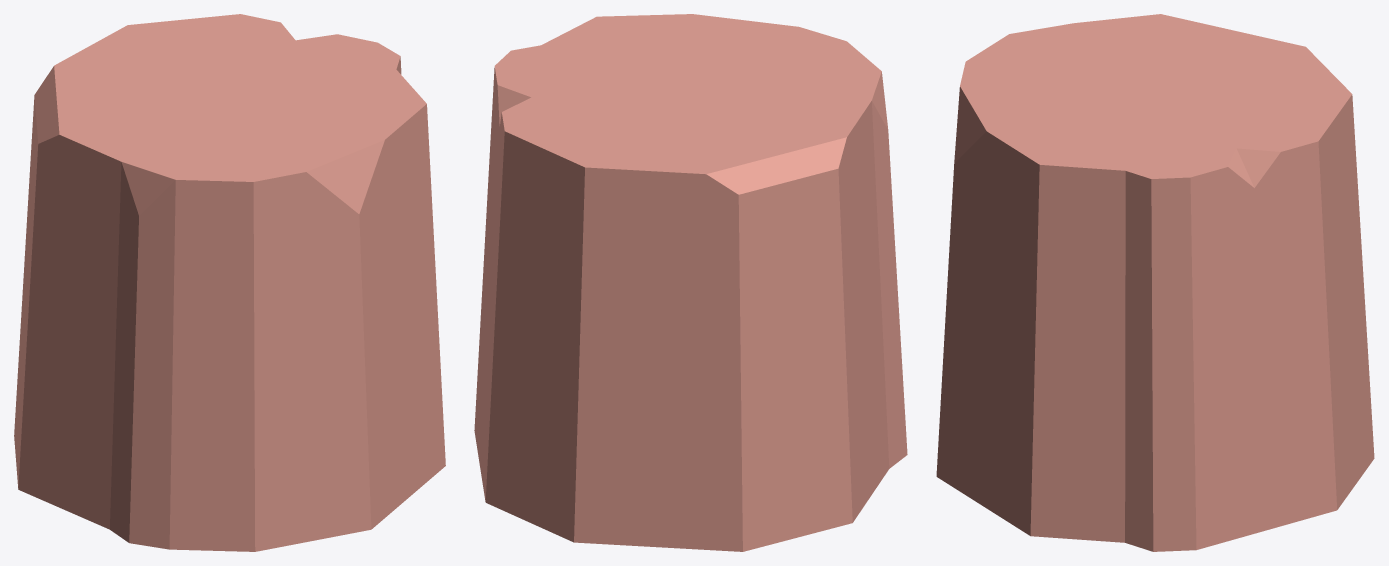
Rendered from Cylinder_008_Vlad.fbx.
3 views of the same model, side by side, from view 1: azimuth 30°, elevation 25°; view 2: azimuth 150°, elevation 25°; view 3: azimuth 270°, elevation 25° (orthographic).
Parts seen in each view (by area): view 1: Cylinder.008; view 2: Cylinder.008; view 3: Cylinder.008.
Part boxes in pixels (x1,y1,x2,y2): Cylinder.008: (14, 14, 445, 551); Cylinder.008: (474, 14, 907, 551); Cylinder.008: (936, 14, 1374, 551).
Bounding box in the file's own units: 109 × 100 × 109.
